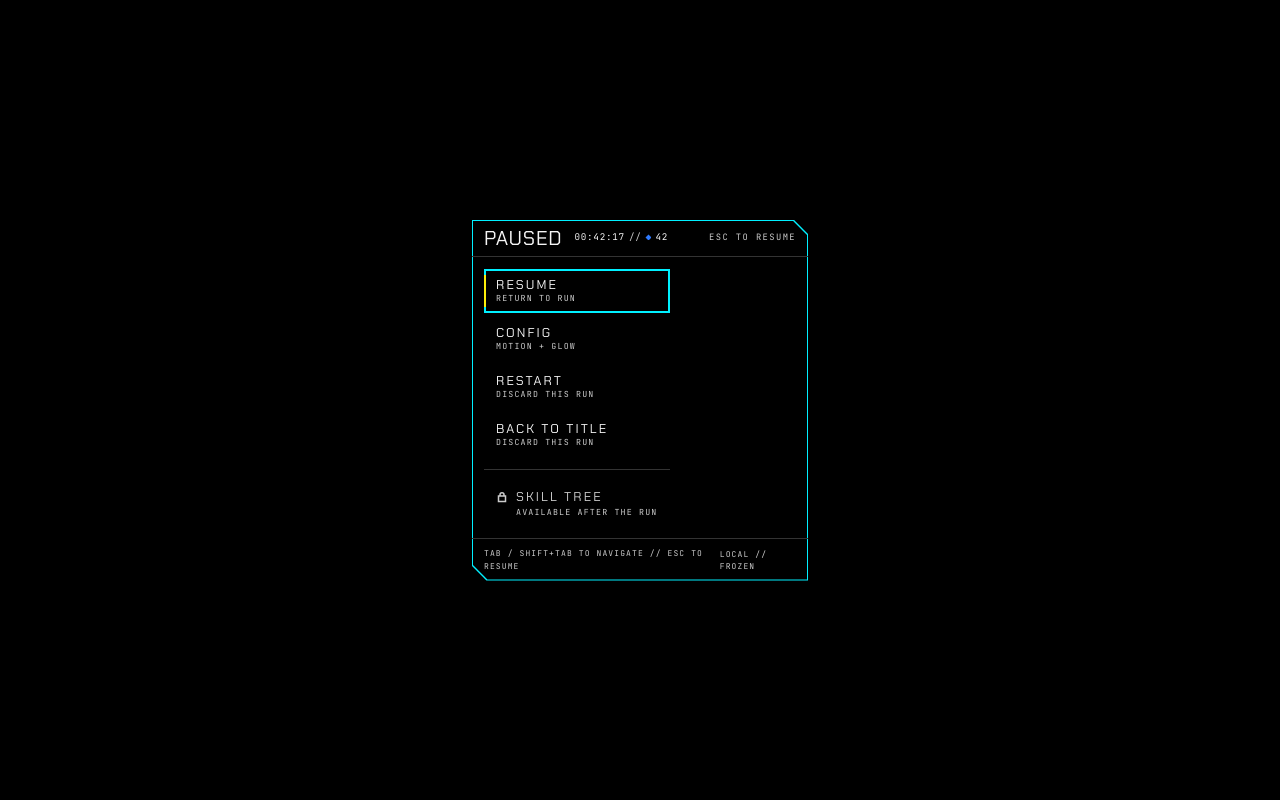
Test: PauseMenu › reveals the Config panel, selected marker, and neon connector
Click the button "CONFIG MOTION + GLOW" at [577, 338], box [484,316,670,360]
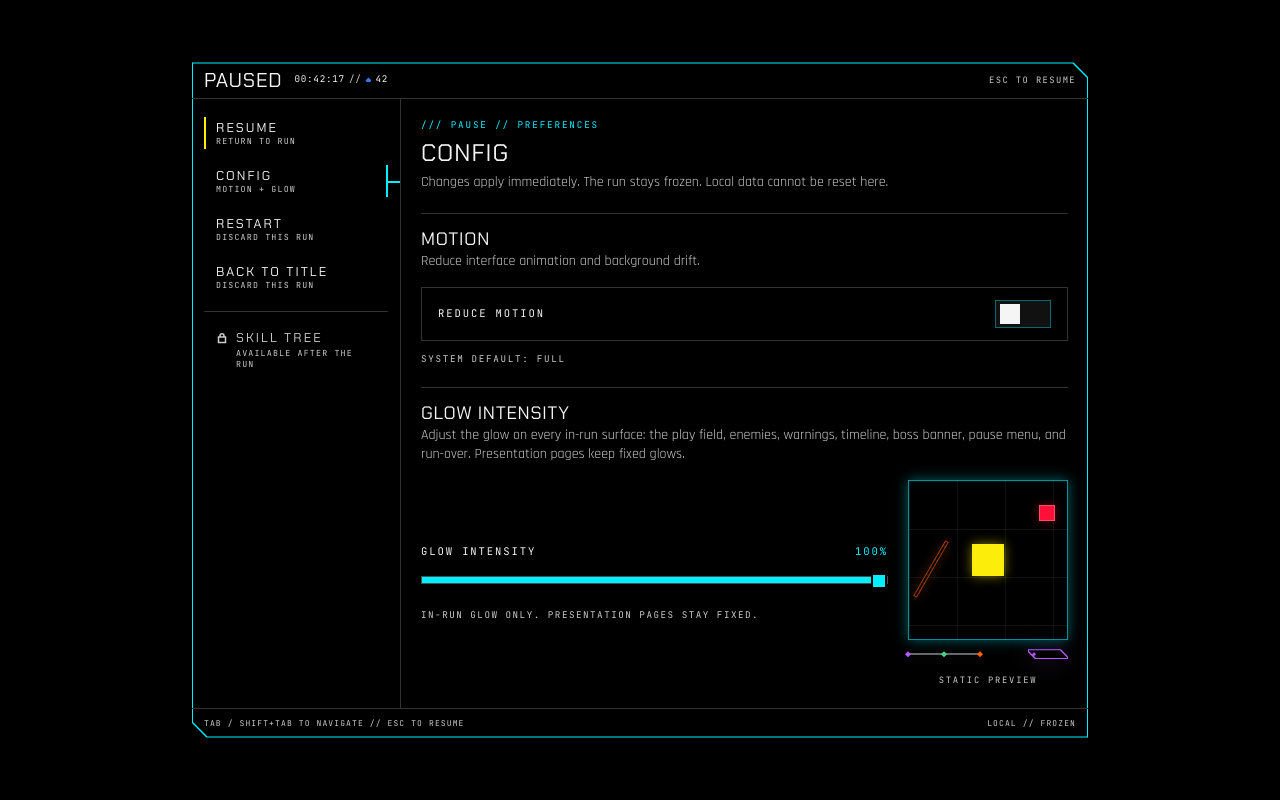
Expected: the button "CONFIG MOTION + GLOW" is expanded, [204,160,388,204]
Expected: the text "/// PAUSE // PREFERENCES" is shown, [421,120,599,132]
Expected: the text "Changes apply immediately" is shown, [421,173,888,191]
